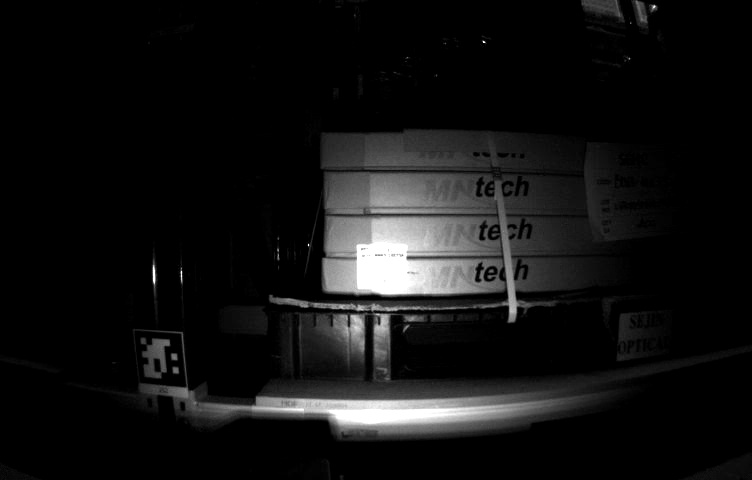True Barcode: (352, 242, 414, 289)
